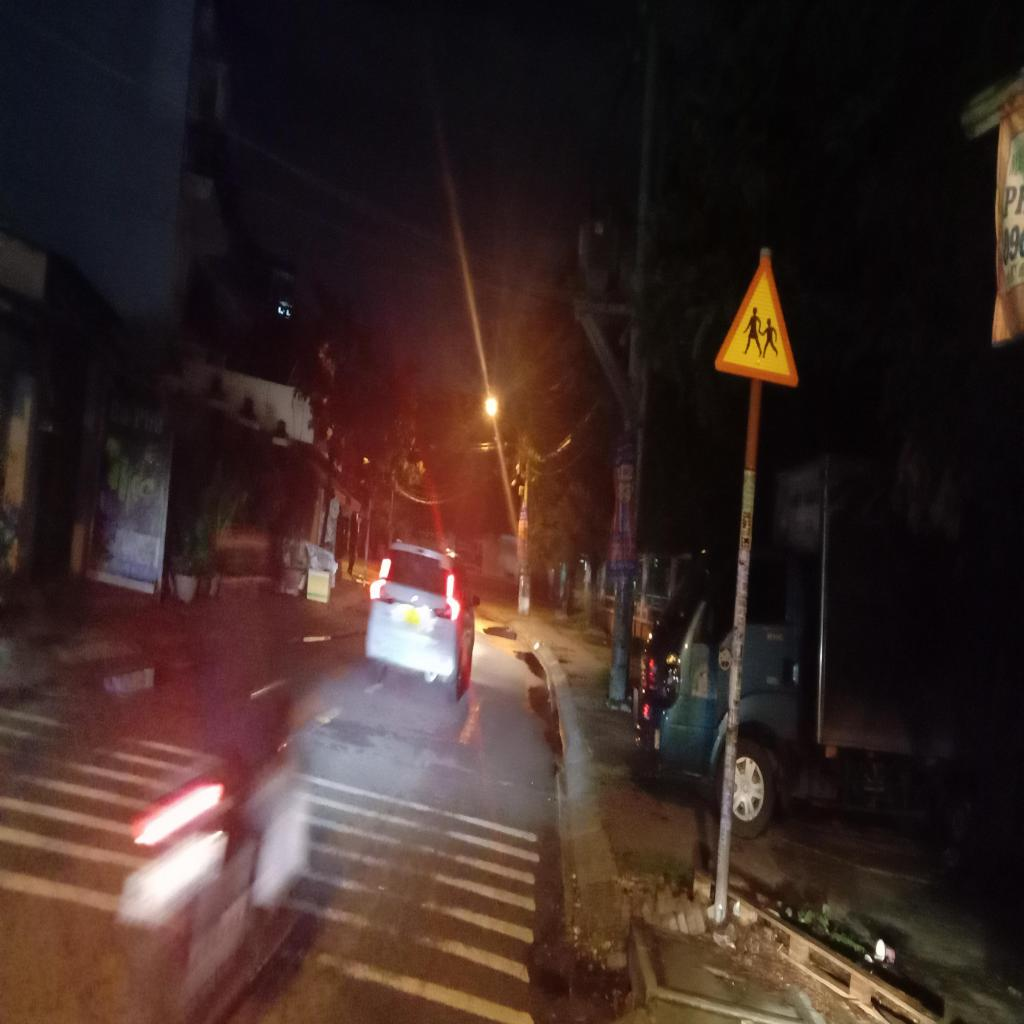chu_y_tre_em: (713, 254, 800, 386)
